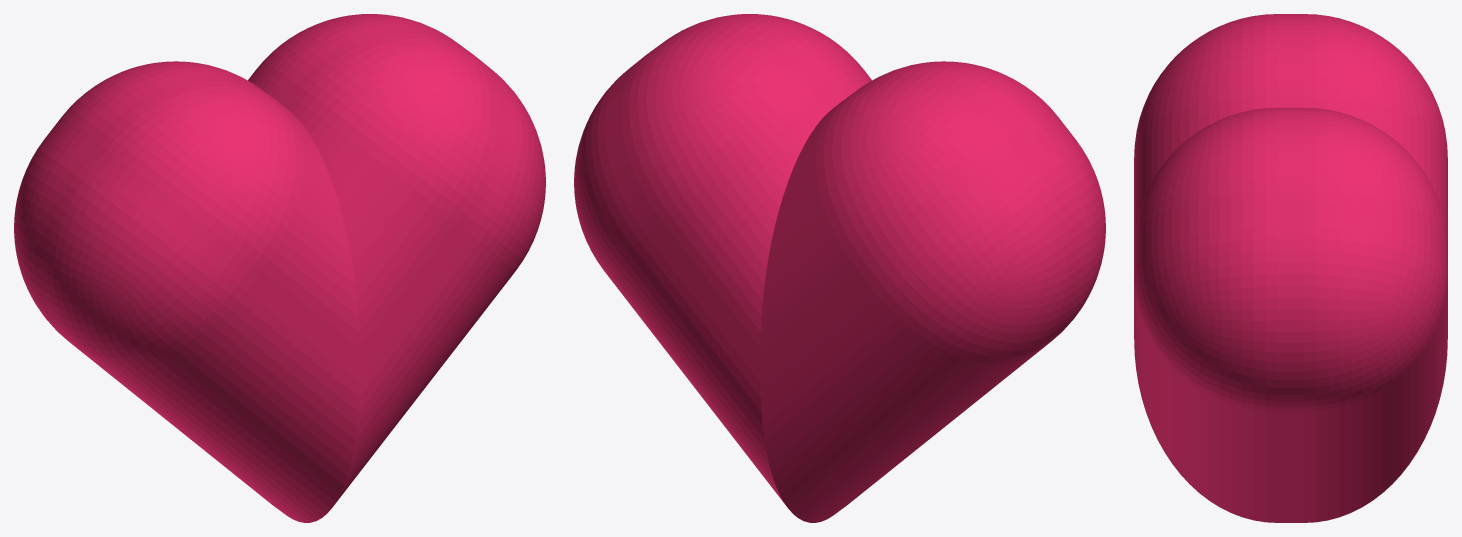
File: Hearth.glb
3 renders of one model, left to right at view 1: azimuth 30°, elevation 25°; view 2: azimuth 150°, elevation 25°; view 3: azimuth 270°, elevation 25°, orthographic.
Parts seen in each view (by area): view 1: Cube; view 2: Cube; view 3: Cube.
Boxes of the visible parts, box(x1,y1,x2,y2) form: Cube: box(14, 14, 545, 522); Cube: box(574, 14, 1105, 522); Cube: box(1134, 14, 1447, 522).
Bounding box in the file's own units: 3.48 × 3.16 × 2.
